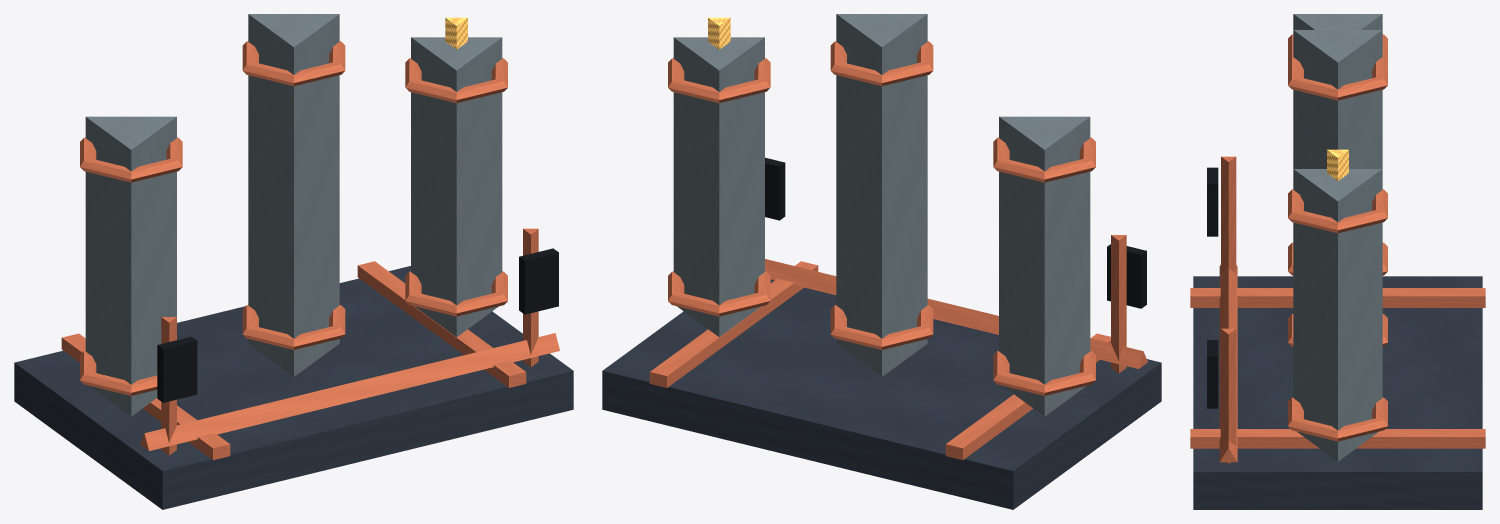
Rendered from atlas100-s028-a02.lod2.glb.
The picture shows the model from 3 angles, left to right: view 1: azimuth 30°, elevation 25°; view 2: azimuth 150°, elevation 25°; view 3: azimuth 270°, elevation 25°; orthographic projection. The views are drawn at different scales.
Visible parts, largest first — view 1: atlas100-s028-a02:part-000, atlas100-s028-a02:part-007, atlas100-s028-a02:part-011, atlas100-s028-a02:part-003, atlas100-s028-a02:part-019, atlas100-s028-a02:part-002, atlas100-s028-a02:part-016, atlas100-s028-a02:part-018, atlas100-s028-a02:part-009, atlas100-s028-a02:part-008, atlas100-s028-a02:part-005, atlas100-s028-a02:part-012 (+6 smaller); view 2: atlas100-s028-a02:part-000, atlas100-s028-a02:part-007, atlas100-s028-a02:part-003, atlas100-s028-a02:part-011, atlas100-s028-a02:part-019, atlas100-s028-a02:part-002, atlas100-s028-a02:part-001, atlas100-s028-a02:part-009, atlas100-s028-a02:part-008, atlas100-s028-a02:part-005, atlas100-s028-a02:part-012, atlas100-s028-a02:part-004 (+5 smaller); view 3: atlas100-s028-a02:part-000, atlas100-s028-a02:part-011, atlas100-s028-a02:part-007, atlas100-s028-a02:part-002, atlas100-s028-a02:part-001, atlas100-s028-a02:part-012, atlas100-s028-a02:part-009, atlas100-s028-a02:part-013, atlas100-s028-a02:part-019, atlas100-s028-a02:part-017, atlas100-s028-a02:part-015, atlas100-s028-a02:part-003 (+5 smaller).
Boxes of the visible parts, x1,y1,x2,y2 form: atlas100-s028-a02:part-000: (14, 266, 573, 509); atlas100-s028-a02:part-007: (248, 14, 339, 376); atlas100-s028-a02:part-011: (411, 37, 502, 337); atlas100-s028-a02:part-003: (85, 116, 176, 416); atlas100-s028-a02:part-019: (140, 333, 559, 450); atlas100-s028-a02:part-002: (357, 261, 526, 387); atlas100-s028-a02:part-016: (157, 336, 197, 402); atlas100-s028-a02:part-018: (519, 248, 558, 314); atlas100-s028-a02:part-009: (242, 41, 345, 86); atlas100-s028-a02:part-008: (242, 305, 345, 349); atlas100-s028-a02:part-005: (80, 137, 182, 182); atlas100-s028-a02:part-012: (405, 271, 507, 316); atlas100-s028-a02:part-000: (602, 279, 1161, 509); atlas100-s028-a02:part-007: (836, 14, 927, 376); atlas100-s028-a02:part-003: (999, 116, 1090, 416); atlas100-s028-a02:part-011: (673, 37, 764, 337); atlas100-s028-a02:part-019: (765, 259, 1147, 368); atlas100-s028-a02:part-002: (649, 261, 818, 387); atlas100-s028-a02:part-001: (945, 333, 1110, 460); atlas100-s028-a02:part-009: (830, 41, 933, 86); atlas100-s028-a02:part-008: (830, 305, 933, 349); atlas100-s028-a02:part-005: (993, 137, 1095, 182); atlas100-s028-a02:part-012: (668, 271, 770, 316); atlas100-s028-a02:part-004: (993, 351, 1095, 395); atlas100-s028-a02:part-000: (1193, 276, 1482, 509); atlas100-s028-a02:part-011: (1293, 169, 1382, 461); atlas100-s028-a02:part-007: (1293, 30, 1382, 168); atlas100-s028-a02:part-002: (1190, 429, 1485, 448); atlas100-s028-a02:part-001: (1190, 288, 1485, 307); atlas100-s028-a02:part-012: (1288, 397, 1387, 441); atlas100-s028-a02:part-009: (1288, 56, 1387, 100); atlas100-s028-a02:part-013: (1288, 189, 1387, 233); atlas100-s028-a02:part-019: (1219, 265, 1237, 462); atlas100-s028-a02:part-017: (1221, 328, 1236, 463); atlas100-s028-a02:part-015: (1221, 156, 1236, 273); atlas100-s028-a02:part-003: (1293, 14, 1382, 29).
Size of the model in its own units: 3 by 2.55 by 1.84.
Materials: 5 (5 with a texture image).
